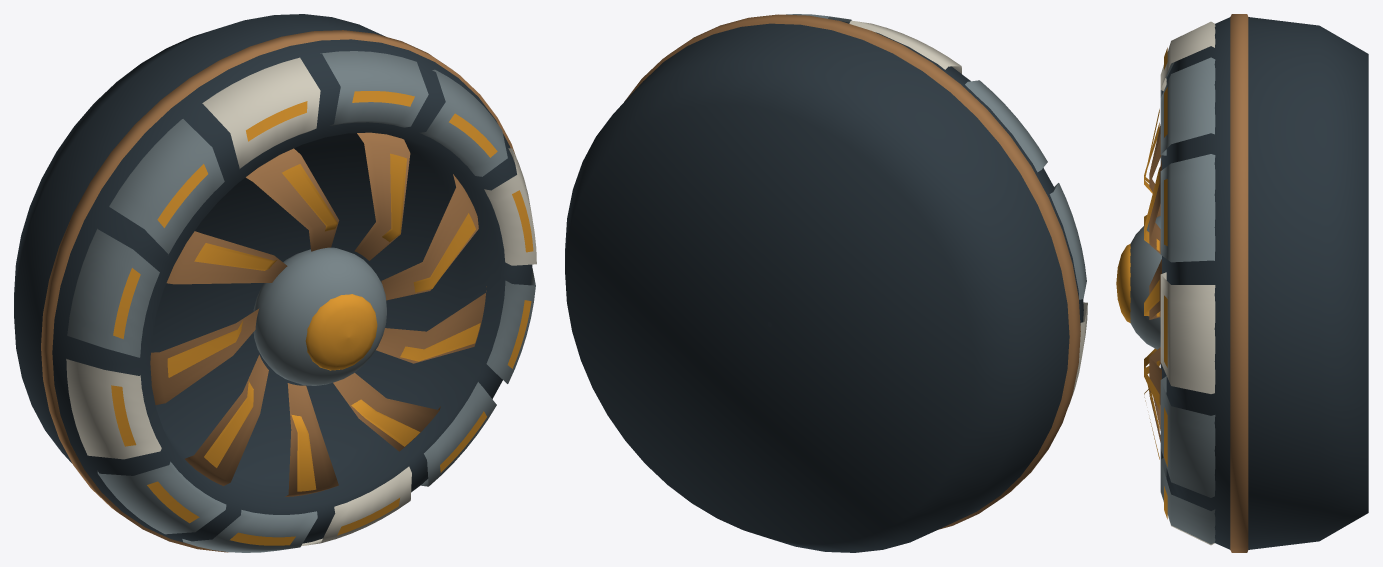
File: boss_generator.glb
3 views of the same model, side by side, from view 1: azimuth 30°, elevation 25°; view 2: azimuth 150°, elevation 25°; view 3: azimuth 270°, elevation 25° (orthographic). The views are drawn at different scales.
Visible parts, largest first — view 1: boss_generator; view 2: boss_generator; view 3: boss_generator.
Boxes of the visible parts, bbox=[...] form: boss_generator: bbox=[14, 14, 536, 552]; boss_generator: bbox=[565, 14, 1087, 552]; boss_generator: bbox=[1116, 14, 1368, 552].
Bounding box in the file's own units: 2.09 × 2.09 × 0.977.
